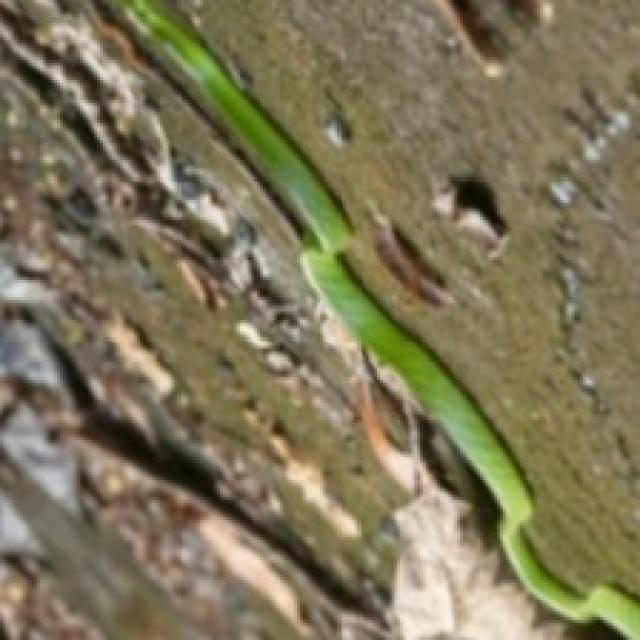red-tailed green ratsnake: (109, 0, 637, 637)
